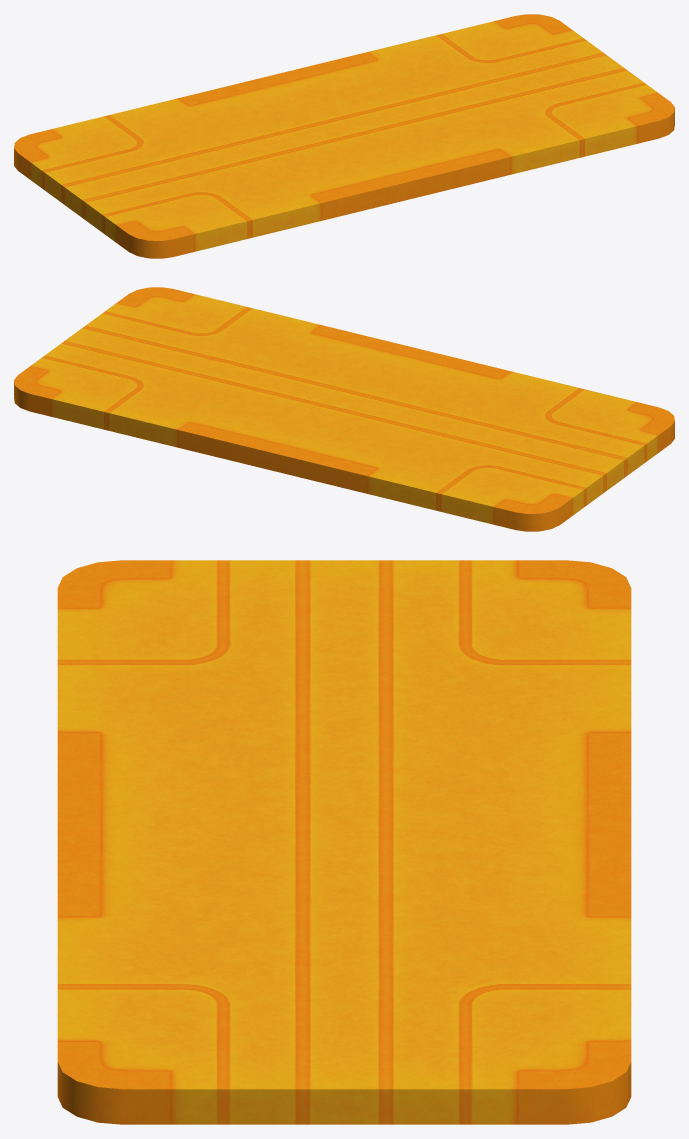
File: GoldCard.FBX
3 views of the same model, one above another, from view 1: azimuth 30°, elevation 25°; view 2: azimuth 150°, elevation 25°; view 3: azimuth 270°, elevation 25° (orthographic). The views are drawn at different scales.
Visible parts, largest first — view 1: GoldCard; view 2: GoldCard; view 3: GoldCard.
Boxes of the visible parts, box(x1,y1,x2,y2) form: GoldCard: box(14, 14, 674, 258); GoldCard: box(14, 287, 674, 531); GoldCard: box(57, 560, 631, 1124).
Size of the model in its own units: 150 by 4.69 by 68.64.
Materials: 1 (1 with a texture image).
